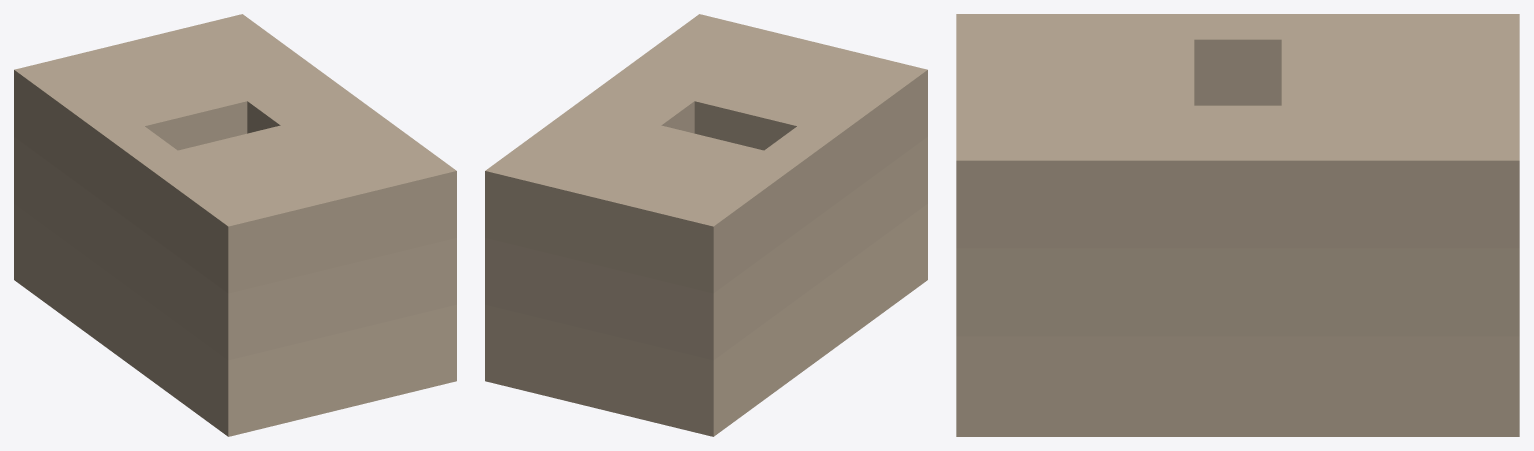
File: massing.glb
The picture shows the model from 3 angles, left to right: view 1: azimuth 30°, elevation 25°; view 2: azimuth 150°, elevation 25°; view 3: azimuth 270°, elevation 25°; orthographic projection. The views are drawn at different scales.
Parts seen in each view (by area): view 1: main/floor3/0/0, main/floor1/0/0, main/floor2/0/0; view 2: main/floor3/0/0, main/floor1/0/0, main/floor2/0/0; view 3: main/floor3/0/0, main/floor1/0/0, main/floor2/0/0.
Part boxes in pixels (box(x1,y1,x2,y2)): main/floor3/0/0: box(14, 14, 456, 293); main/floor1/0/0: box(14, 204, 456, 436); main/floor2/0/0: box(14, 137, 456, 360); main/floor3/0/0: box(485, 14, 927, 293); main/floor1/0/0: box(485, 204, 927, 436); main/floor2/0/0: box(485, 137, 927, 360); main/floor3/0/0: box(956, 14, 1519, 248); main/floor1/0/0: box(956, 336, 1519, 436); main/floor2/0/0: box(956, 248, 1519, 336).
Size of the model in its own units: 10 by 8.8 by 16.25.
